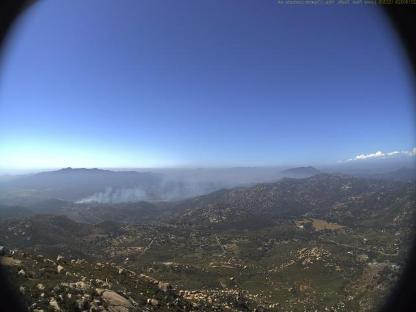smoke: (74, 167, 262, 205)
